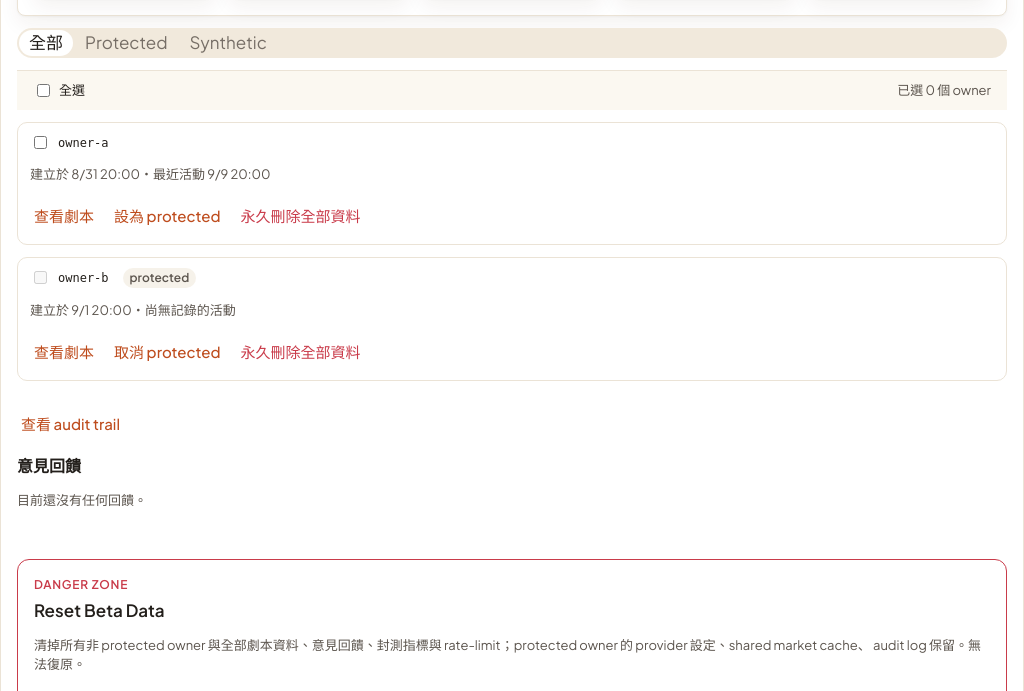
Scenario: SuperUserAdmin › the audit trail is collapsed by default and only fetched when opened
(page scrolled)
Expected: the text "owner-a" is shown, x1=58 y1=134 x2=109 y2=152
Click the button "查看 audit trail" at [70, 423], box x1=17 y1=405 x2=124 y2=442
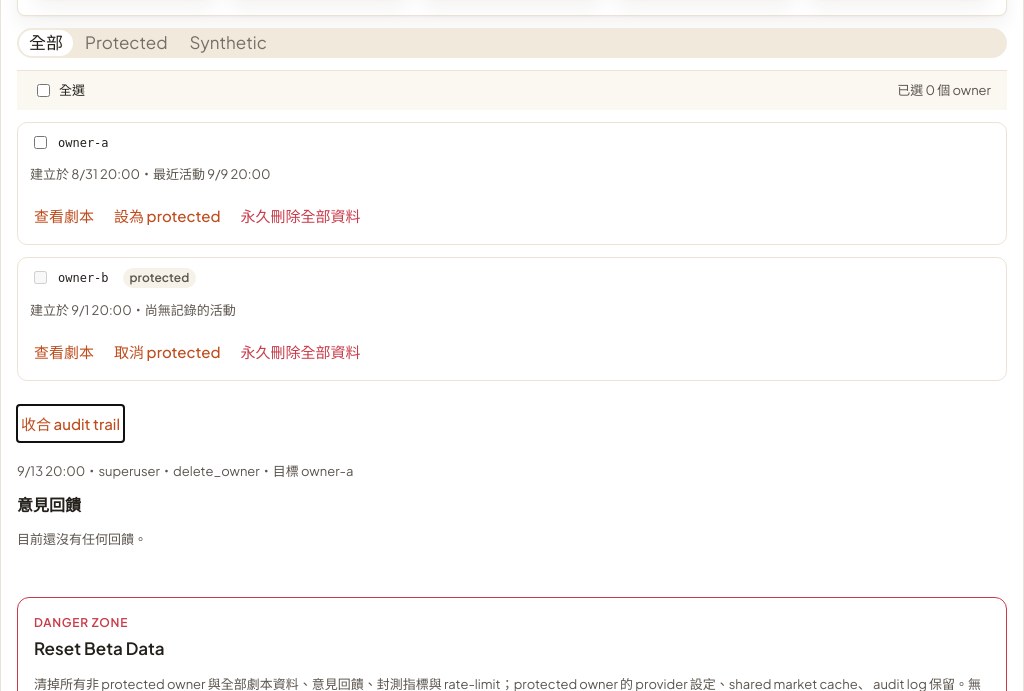
Now the list item "9/13 20:00・superuser・delete_owner・目標 owner-a" is shown, box x1=17 y1=463 x2=354 y2=479
